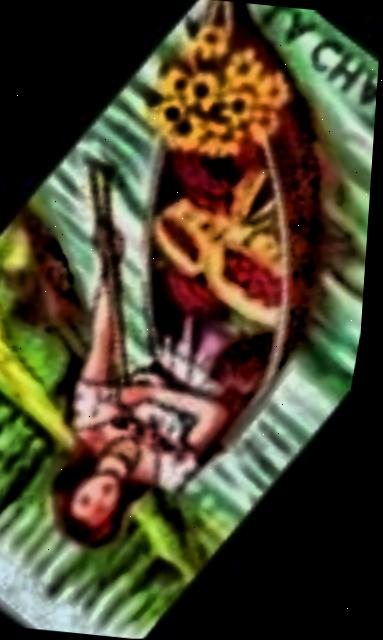La Chalupa: (0, 1, 380, 639)
